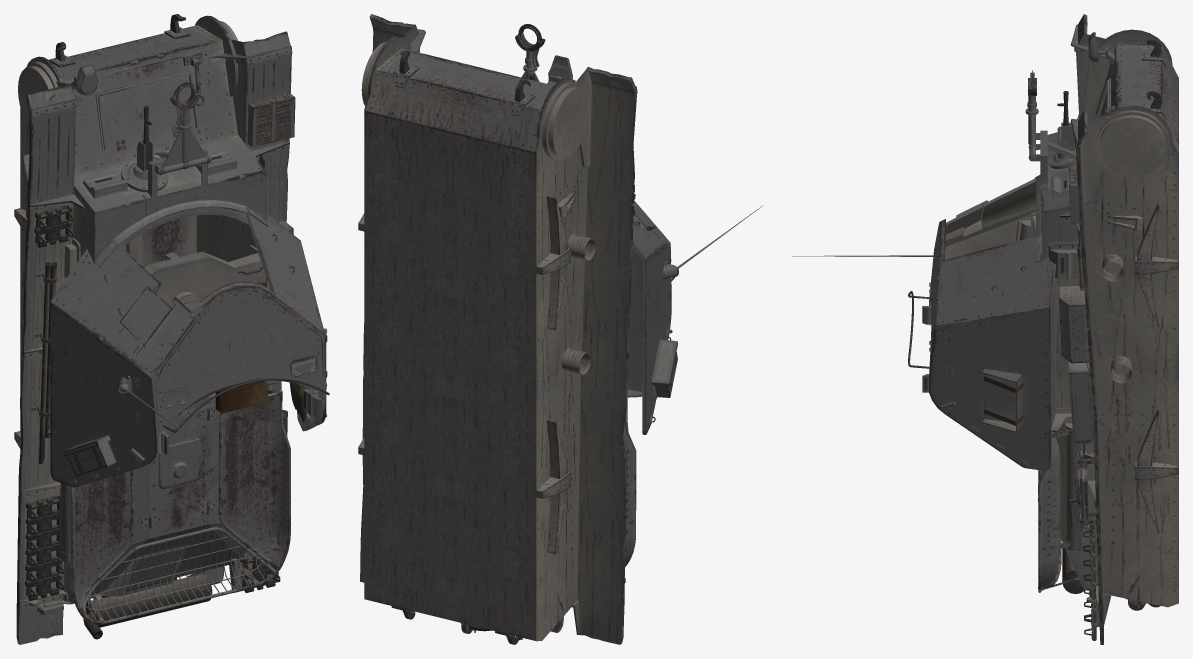
The model's file is Hull.glb.
The picture shows the model from 3 angles, left to right: view 1: azimuth 30°, elevation 25°; view 2: azimuth 150°, elevation 25°; view 3: azimuth 270°, elevation 25°; orthographic projection. The views are drawn at different scales.
Visible parts, largest first — view 1: set_0_group_0; view 2: set_0_group_0; view 3: set_0_group_0.
Boxes of the visible parts, x1,y1,x2,y2 form: set_0_group_0: (14,14,329,644); set_0_group_0: (358,14,763,644); set_0_group_0: (792,14,1178,644).
Bounding box in the file's own units: 2.2 × 4.54 × 3.03.
1 material, 1 textured.
